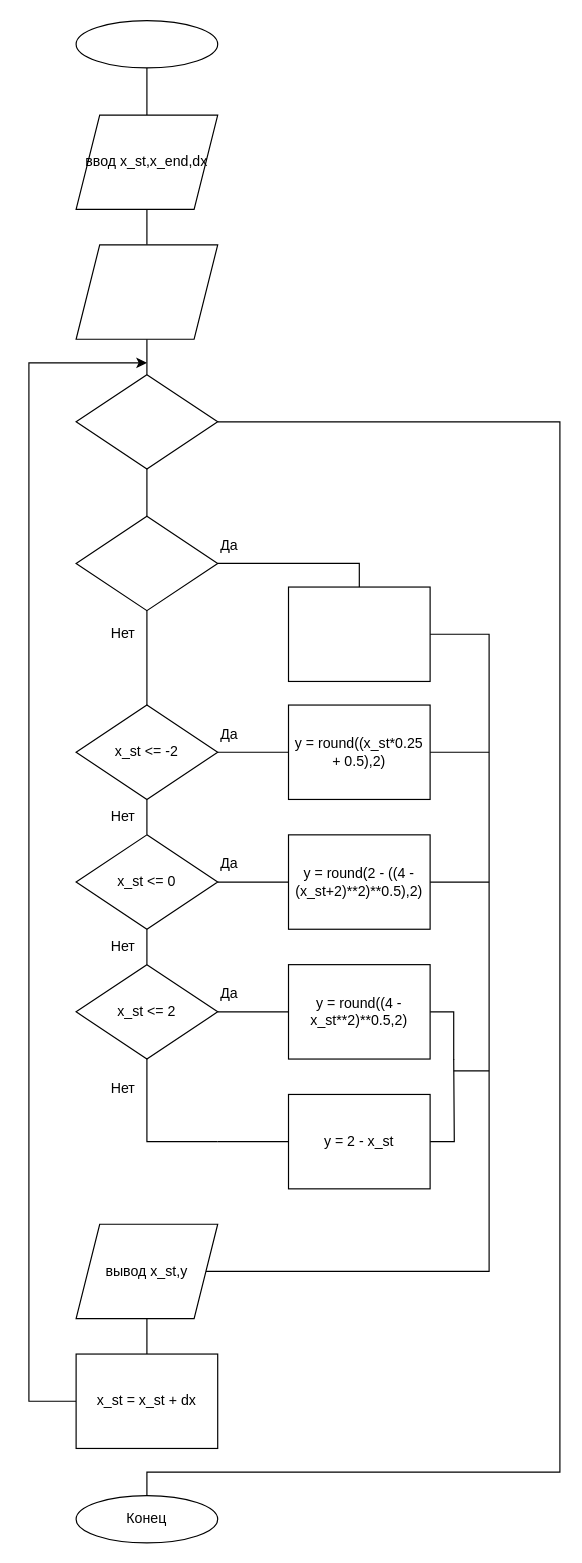
Image size: 582x1563. Some labels were removed from this diagram. The shapes that lost their labels are listed below. From the top down, each one's centre as x and y in pixels, then its label:
the point at 146,43: Начало
the point at 146,291: вывод x | y
the point at 146,421: while x_st <= x_end
the point at 146,563: x_st <= -6
the point at 358,633: y = 2
